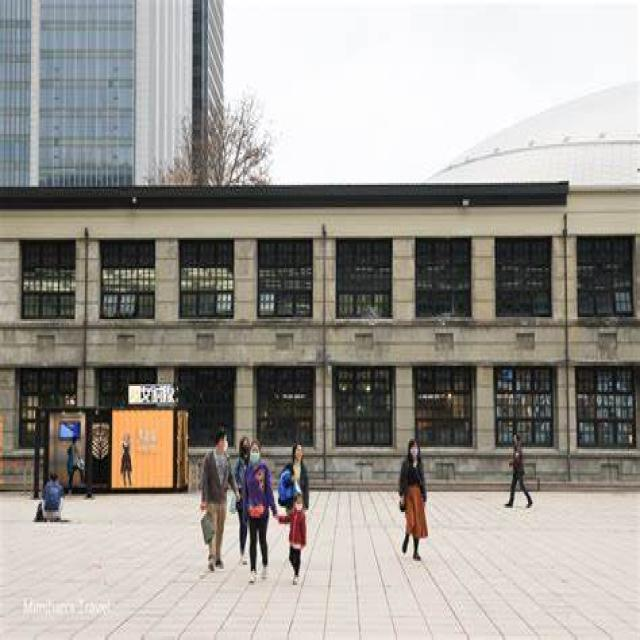stand: (391, 444, 436, 572), (202, 415, 229, 571), (279, 450, 312, 576), (228, 425, 258, 552), (245, 446, 272, 570), (501, 427, 538, 511)
